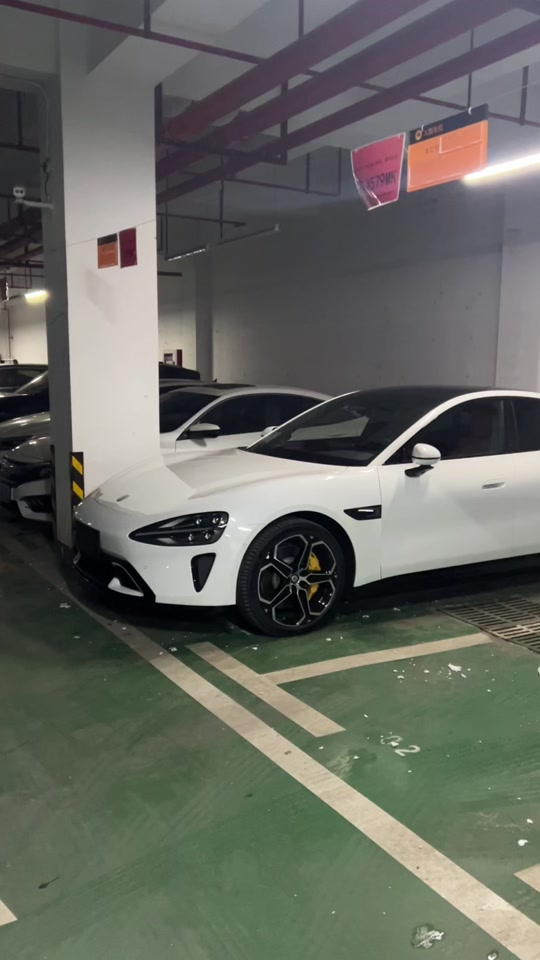su7: (70, 388, 540, 638)
